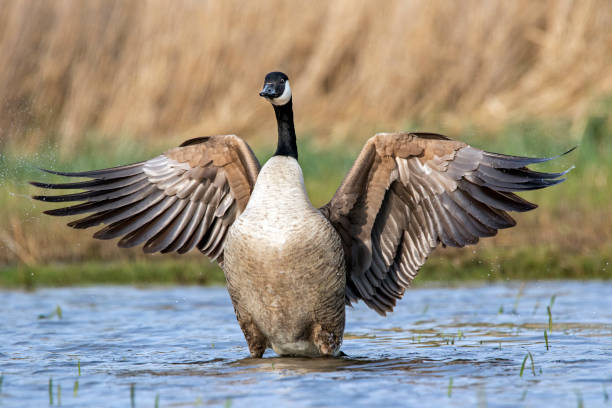goose: (26, 69, 580, 361)
